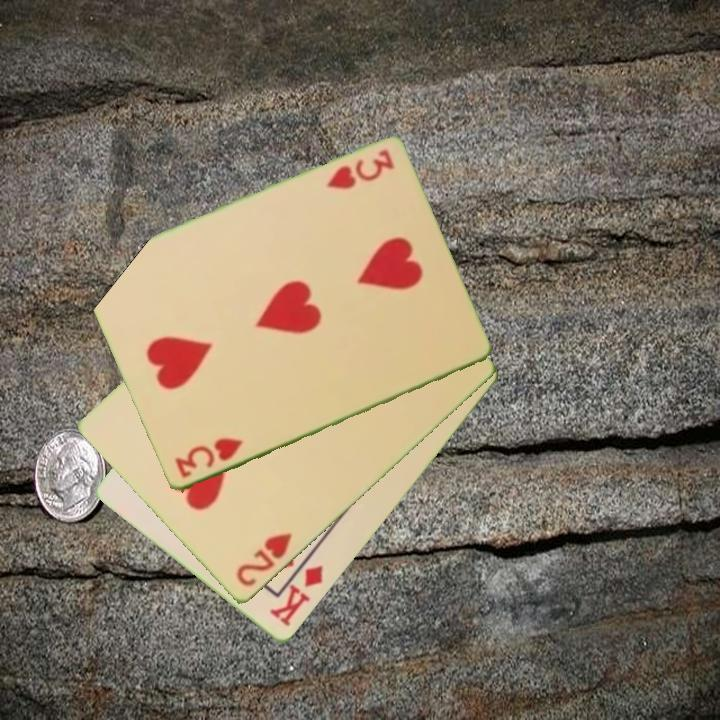2h: (232, 529, 295, 590)
3h: (171, 434, 246, 482), (323, 146, 397, 193)
Kd: (266, 561, 327, 630)
